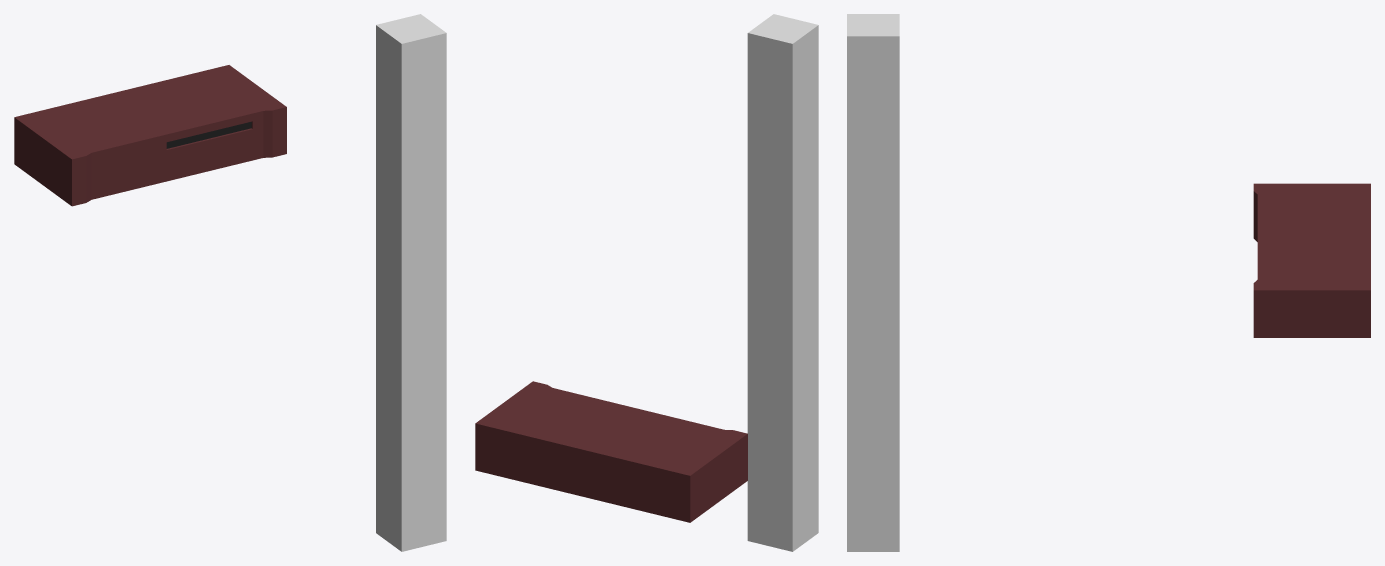
The model's file is chassis.glb.
3 renders of one model, left to right at view 1: azimuth 30°, elevation 25°; view 2: azimuth 150°, elevation 25°; view 3: azimuth 270°, elevation 25°, orthographic.
Visible parts, largest first — view 1: Cube, Chassis; view 2: Cube, Chassis; view 3: Cube, Chassis.
Part boxes in pixels (box(x1,y1,x2,y2)): Cube: box(376, 14, 446, 551); Chassis: box(14, 65, 286, 206); Cube: box(747, 14, 818, 551); Chassis: box(475, 381, 747, 522); Cube: box(847, 14, 899, 551); Chassis: box(1253, 183, 1370, 337).
Size of the model in its own units: 9.56 by 21.6 by 19.88.
